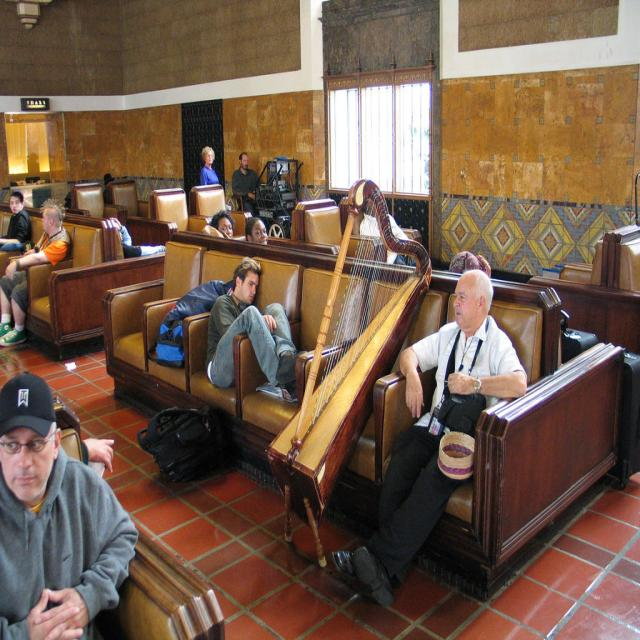harp: (258, 174, 433, 491)
